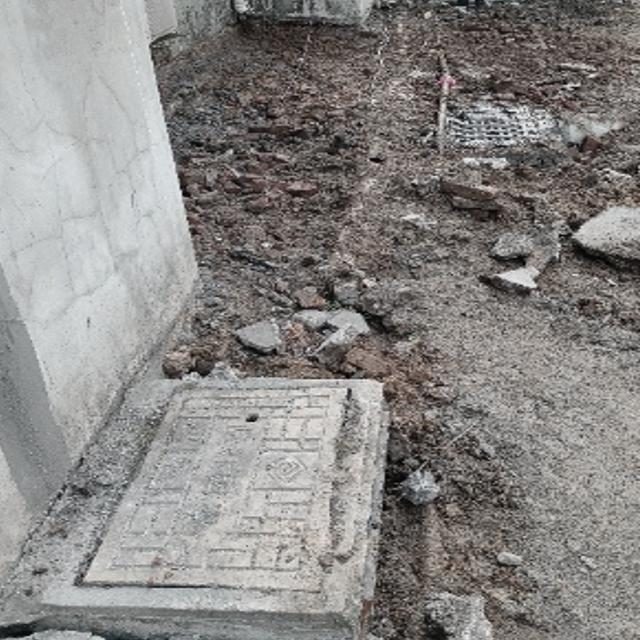good: (37, 375, 381, 607)
